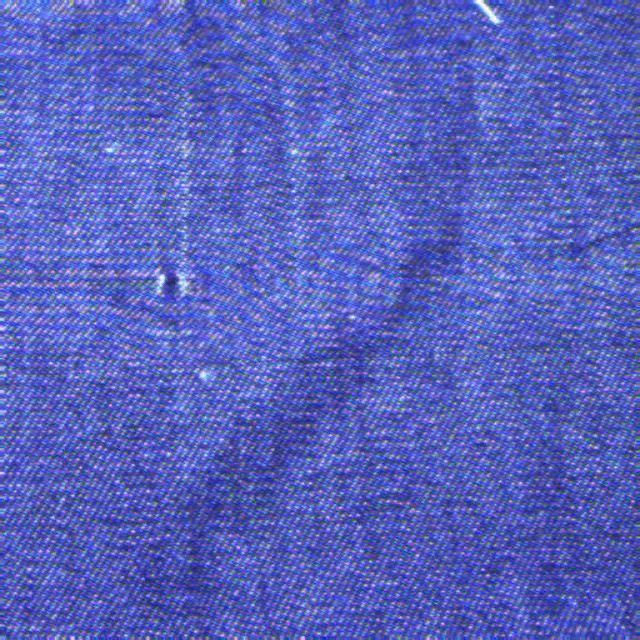pulled_or_thick_thread: (172, 70, 206, 302)
